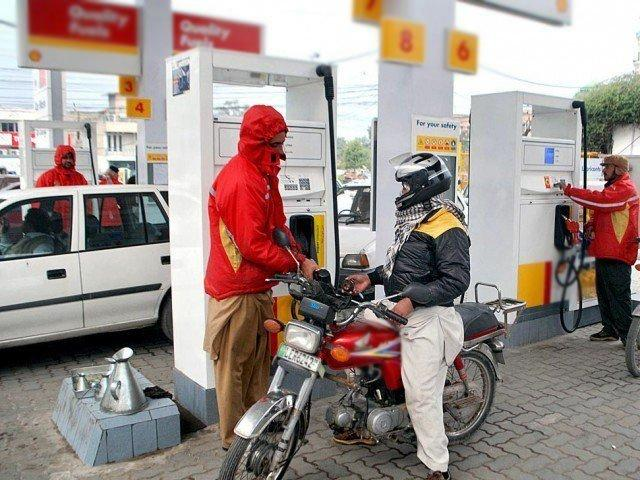helmet: (376, 141, 488, 223)
